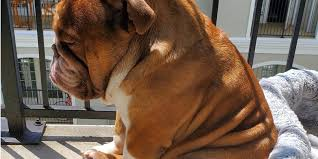Bulldog: (35, 1, 275, 158)
